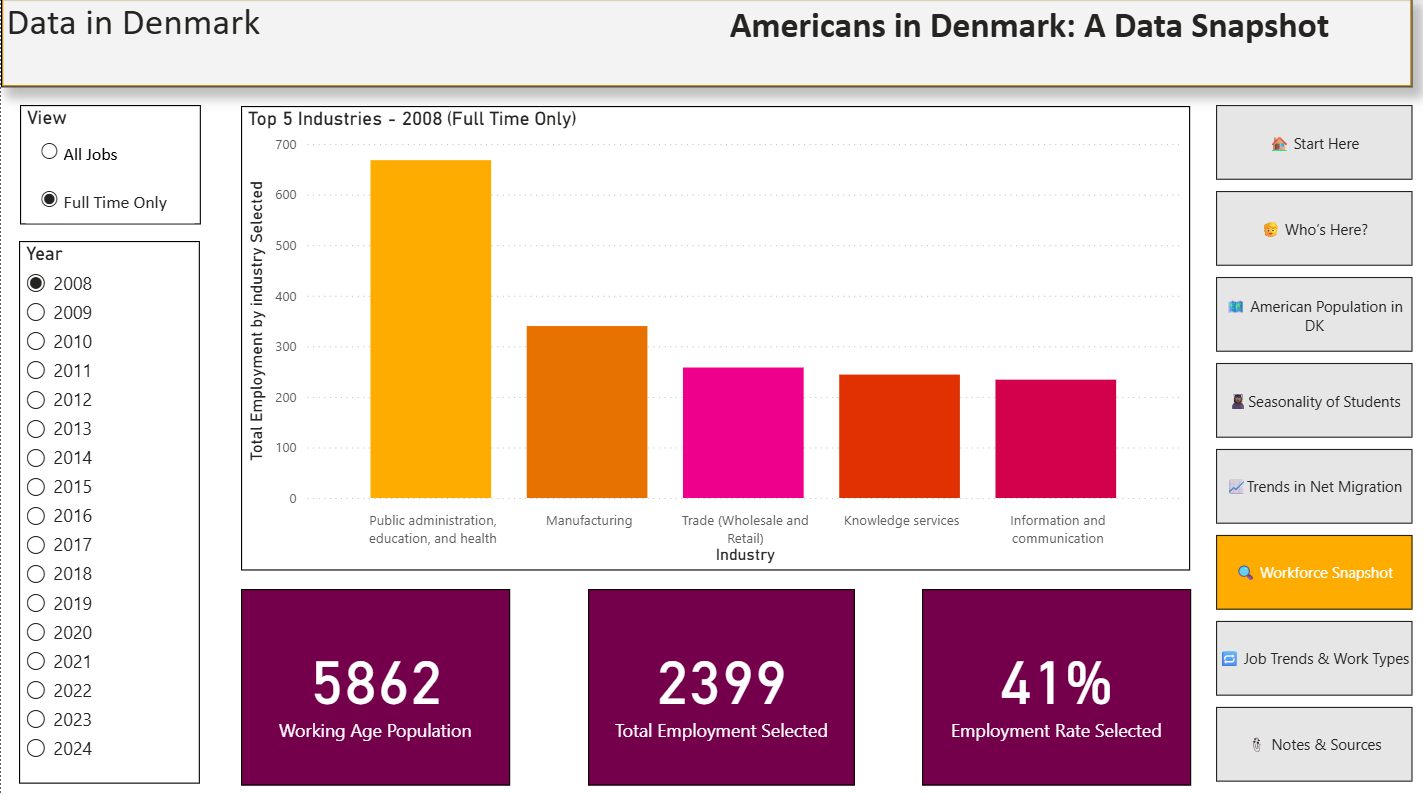

The page's visual inventory and layout, read from the dashboard file:
{"tool":"powerbi","page":{"name":"🔍 Workforce Snapshot","canvas":[1280,720],"ordinal":5},"visuals":[{"type":"shape","box":[0,0,1264,80],"z":0,"group":"g1"},{"type":"listSlicer","fields":{"Values":["Dim_Year.Year"]},"box":[16.2,217.6,162.2,486.5],"z":0},{"type":"group","id":"g1","title":"Group 3","box":[0,0,1264,80],"z":1000},{"type":"columnChart","fields":{"Category":["dim_industry.Industry"],"Y":["Measures (do not delete).Total Employment by industry Selected"],"Series":["dim_industry.Industry"]},"box":[214.7,96.3,850,416.2],"z":1000,"group":"g2"},{"type":"listSlicer","title":"View","fields":{"Values":["JobTypeToggle.JobType"]},"box":[16.6,95.8,162.2,107.3],"z":2000},{"type":"card","fields":{"Values":["Measures (do not delete).Working Age Population"]},"box":[214.7,528.7,240.5,175.7],"z":2000,"group":"g2"},{"type":"pageNavigator","box":[1088,96,176,608],"z":3000},{"type":"textbox","title":"Data in Denmark","box":[0,0,265,80],"z":4000,"group":"g3"},{"type":"group","id":"g2","title":"Group 1","box":[214.7,96.3,850.6,608.3],"z":4000},{"type":"textbox","box":[640,0,623.8,80],"z":5000,"group":"g3"},{"type":"card","fields":{"Values":["Measures (do not delete).Total Employment Selected"]},"box":[525.5,528.7,239.2,175.7],"z":5000,"group":"g2"},{"type":"group","id":"g3","title":"Group 4","box":[0,0,1263.8,80],"z":5002,"group":"g1"},{"type":"card","fields":{"Values":["Measures (do not delete).Employment Rate Selected"]},"box":[824.2,528.7,240.5,175.7],"z":6000,"group":"g2"}]}

Visuals, with their boxes in screenshot pixels (x1, y1, x2, y2), scaled from the page's 1280x720 canvas onto the 1423x795 screenshot:
shape: (0, 0, 1405, 88)
listSlicer - Dim_Year.Year: (18, 240, 198, 777)
"Group 3" group: (0, 0, 1405, 88)
columnChart - dim_industry.Industry x Measures (do not delete).Total Employment by industry Selected: (239, 106, 1184, 566)
"View" listSlicer: (18, 106, 199, 224)
card - Measures (do not delete).Working Age Population: (239, 584, 506, 778)
pageNavigator: (1210, 106, 1405, 777)
"Data in Denmark" textbox: (0, 0, 295, 88)
"Group 1" group: (239, 106, 1184, 778)
textbox: (712, 0, 1405, 88)
card - Measures (do not delete).Total Employment Selected: (584, 584, 850, 778)
"Group 4" group: (0, 0, 1405, 88)
card - Measures (do not delete).Employment Rate Selected: (916, 584, 1184, 778)
